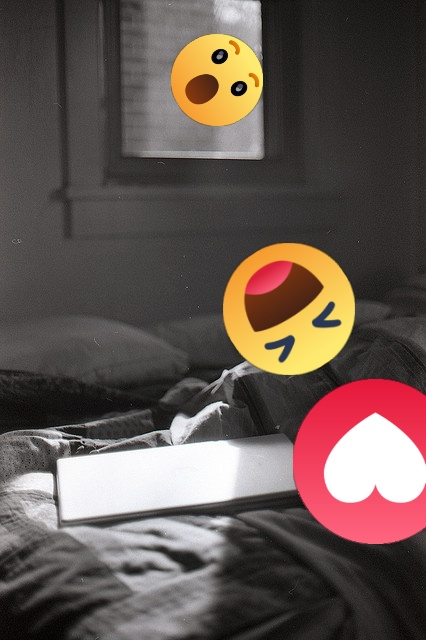haha: (223, 243, 355, 375)
love: (293, 379, 426, 544)
wow: (171, 34, 263, 126)
